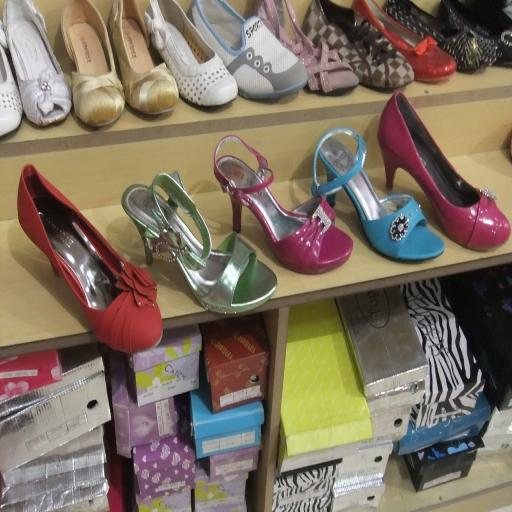heels: (18, 164, 162, 352), (121, 172, 277, 314), (378, 92, 510, 250), (213, 135, 353, 274), (312, 127, 444, 260), (253, 0, 359, 95), (302, 0, 413, 89), (4, 0, 72, 126), (354, 0, 456, 82), (61, 0, 125, 127), (383, 0, 497, 71), (108, 0, 178, 115), (438, 0, 512, 67)
